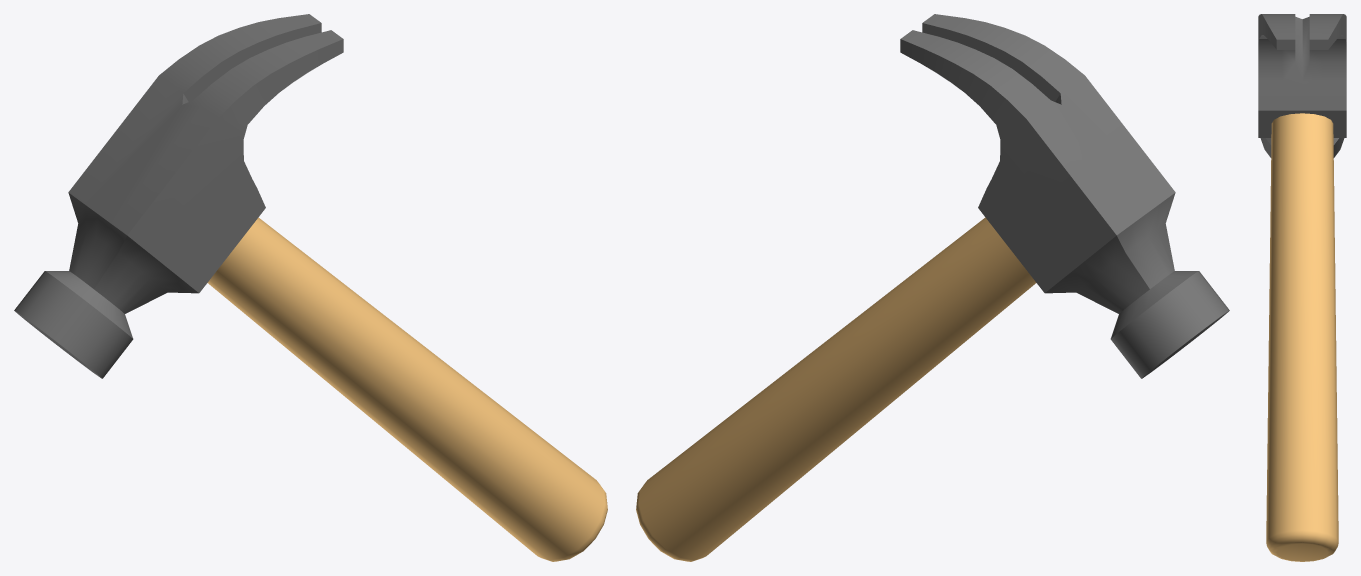
The model's file is hammer.glb.
3 views of the same model, side by side, from view 1: azimuth 30°, elevation 25°; view 2: azimuth 150°, elevation 25°; view 3: azimuth 270°, elevation 25° (orthographic). The views are drawn at different scales.
Visible parts, largest first — view 1: Cube.986; view 2: Cube.986; view 3: Cube.986.
Part boxes in pixels (x1=…): Cube.986: x1=14, y1=14, x2=607, y2=561; Cube.986: x1=636, y1=14, x2=1229, y2=561; Cube.986: x1=1258, y1=14, x2=1346, y2=561.
Size of the model in its own units: 2.18 by 2.11 by 0.3849.
1 material, 1 textured.
